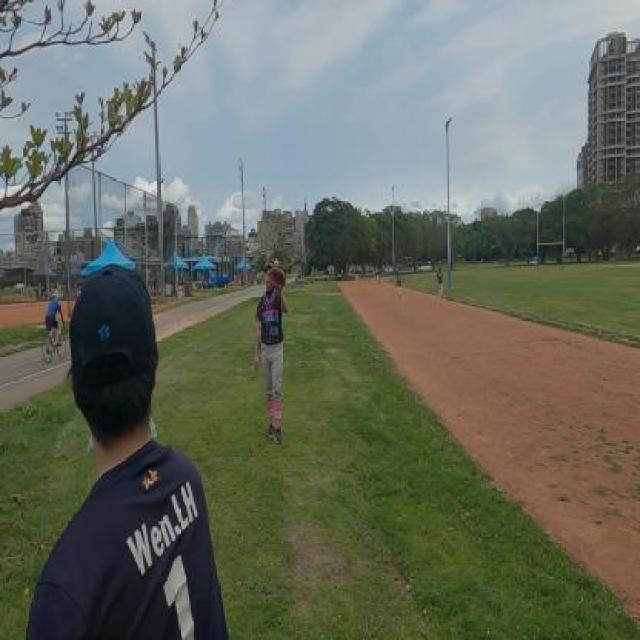baseball: (273, 258, 279, 268)
